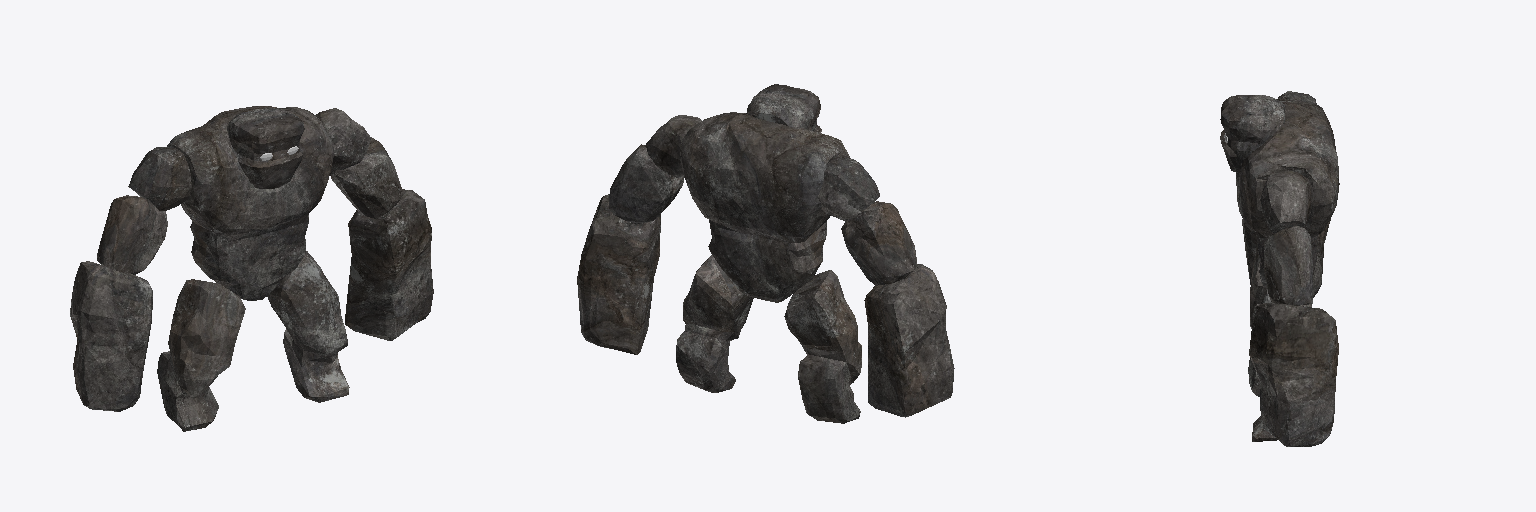
3 views of the same model, side by side, from view 1: azimuth 30°, elevation 25°; view 2: azimuth 150°, elevation 25°; view 3: azimuth 270°, elevation 25° (orthographic).
Visible parts, largest first — view 1: hands&leg.001_ice.003, torso.001_ice.005, head.001_ice.004; view 2: hands&leg.001_ice.003, torso.001_ice.005, head.001_ice.004; view 3: hands&leg.001_ice.003, torso.001_ice.005, head.001_ice.004.
Part boxes in pixels (bbox=[...]): hands&leg.001_ice.003: bbox=[70, 108, 433, 431]; torso.001_ice.005: bbox=[167, 106, 333, 300]; head.001_ice.004: bbox=[227, 108, 304, 188]; hands&leg.001_ice.003: bbox=[577, 115, 954, 423]; torso.001_ice.005: bbox=[680, 112, 849, 302]; head.001_ice.004: bbox=[746, 84, 821, 132]; hands&leg.001_ice.003: bbox=[1242, 91, 1338, 446]; torso.001_ice.005: bbox=[1236, 98, 1339, 291]; head.001_ice.004: bbox=[1220, 95, 1284, 173].
Size of the model in its own units: 11.9 by 9.58 by 3.41.
2 materials, 1 textured.